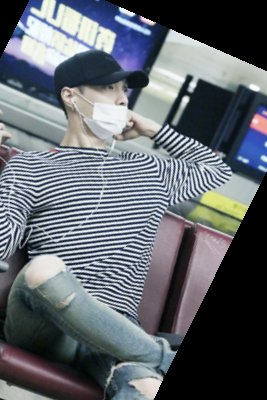mask_weared_incorrect: (47, 45, 153, 150)
